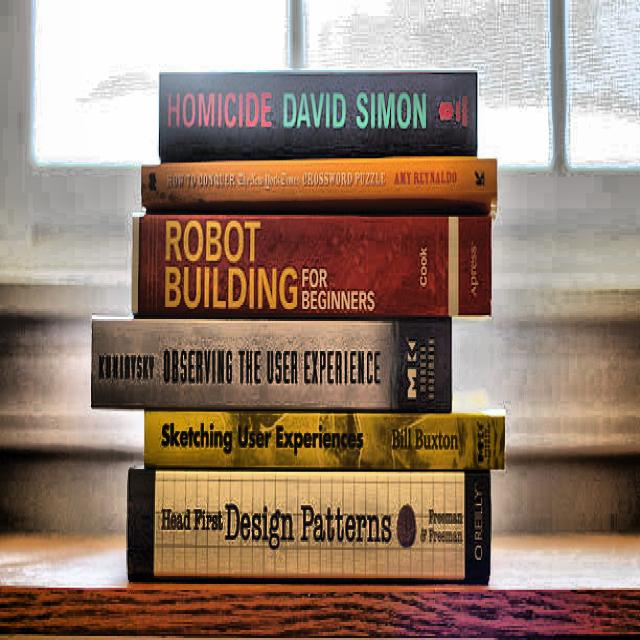Books: (129, 468, 490, 583), (132, 213, 491, 317), (91, 317, 451, 412), (159, 72, 478, 163), (141, 156, 498, 216), (144, 411, 505, 468)
